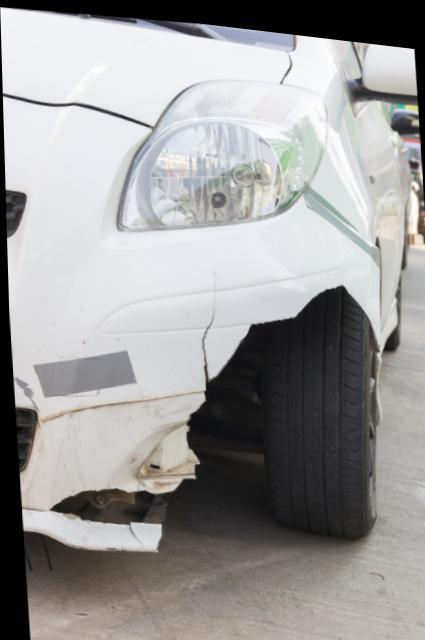crack: (43, 480, 174, 546), (197, 262, 214, 392)
no part: (152, 282, 374, 548)
